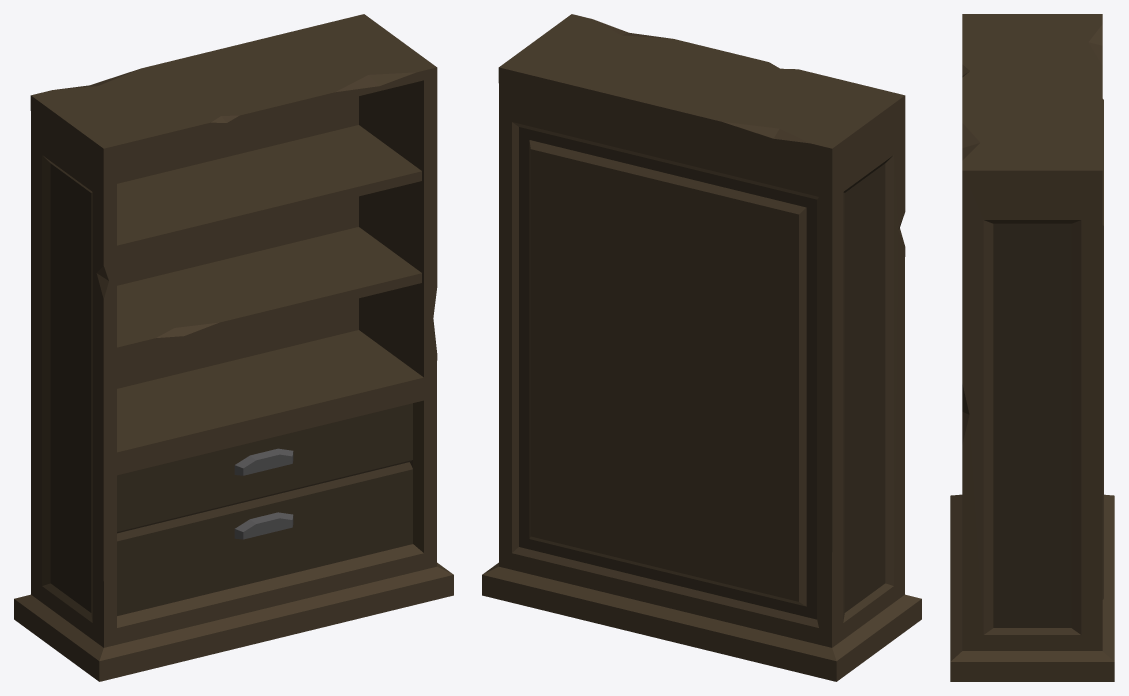
Rendered from SM_Prop_Shelf_05.glb.
3 renders of one model, left to right at view 1: azimuth 30°, elevation 25°; view 2: azimuth 150°, elevation 25°; view 3: azimuth 270°, elevation 25°, orthographic. The views are drawn at different scales.
Visible parts, largest first — view 1: SM_Prop_Shelf_05; view 2: SM_Prop_Shelf_05; view 3: SM_Prop_Shelf_05.
Part boxes in pixels (<box>): SM_Prop_Shelf_05: <box>14,14,453,681</box>; SM_Prop_Shelf_05: <box>482,14,921,681</box>; SM_Prop_Shelf_05: <box>950,14,1114,681</box>.
Bounding box in the file's own units: 1.07 × 1.52 × 0.4476.
Materials: 1 (1 with a texture image).
